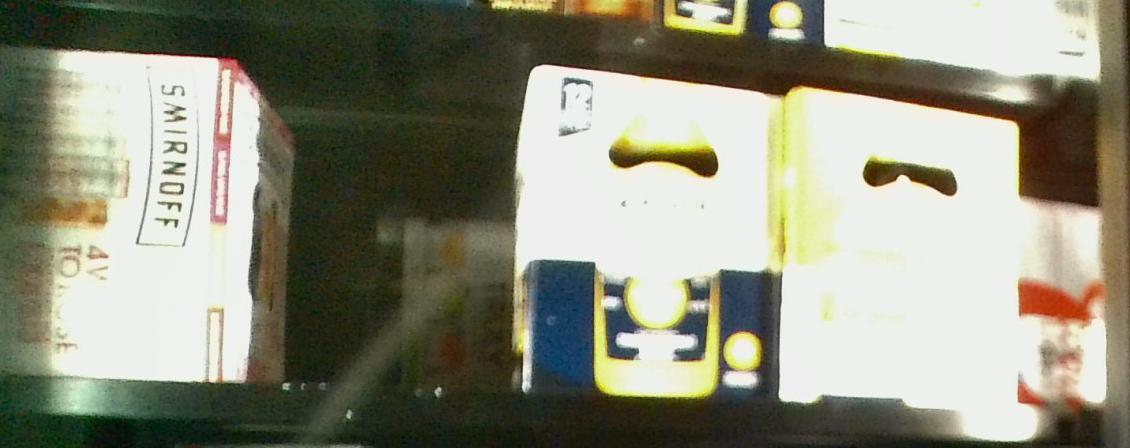bottle: (7, 53, 298, 370), (520, 64, 779, 400), (782, 81, 1025, 405)
